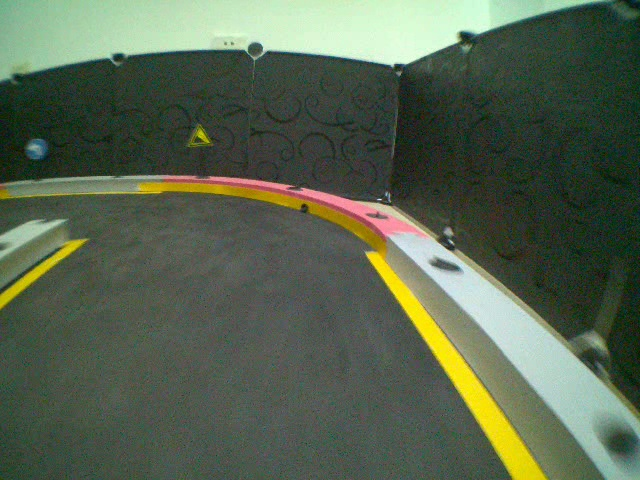fast: (183, 122, 213, 149)
